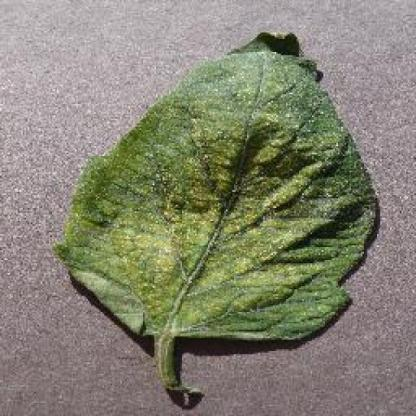Tomato_Spider_Mites: (57, 32, 375, 337)
